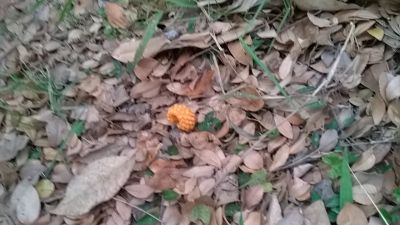eggs: (167, 102, 197, 132)
